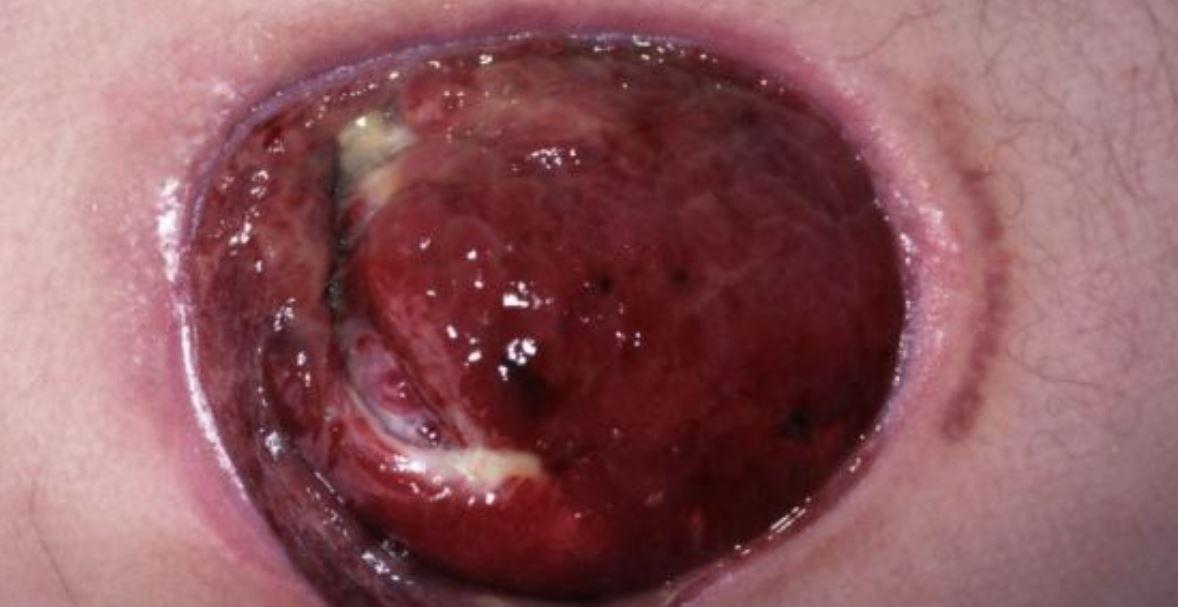Stage3: (162, 37, 1015, 574)
